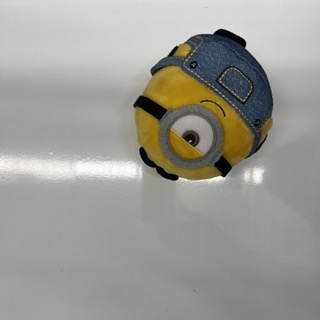minion: (133, 30, 275, 181)
